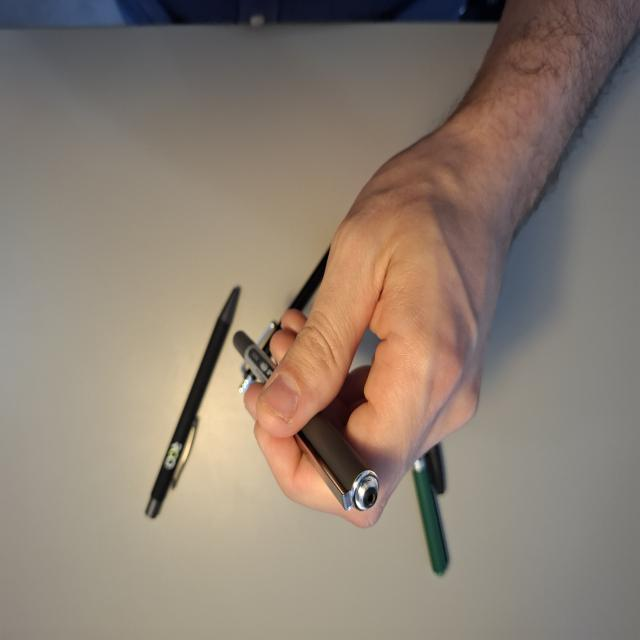glove_off: (241, 118, 512, 531)
